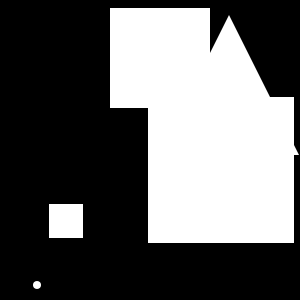circle: (148, 97, 294, 243), (110, 8, 210, 108), (49, 204, 83, 238)
rectangle: (33, 281, 41, 289)
triangle: (159, 15, 299, 155)
